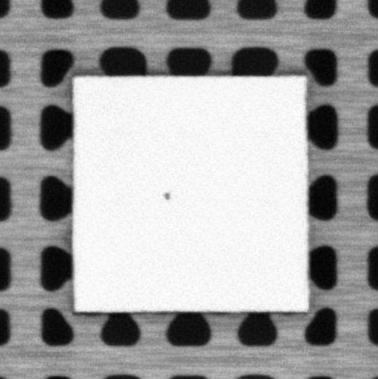DIE_INK: (163, 190, 171, 201)
